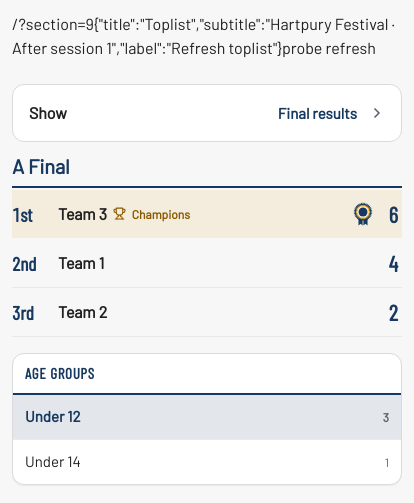
Test: the age group rail on a laptop › lists every age group down the left instead of the menu, and switches on a click
The image size is (414, 503).
Step 1. Click the button "Under 14 1" → (53, 461), box x1=13 y1=440 x2=401 y2=484
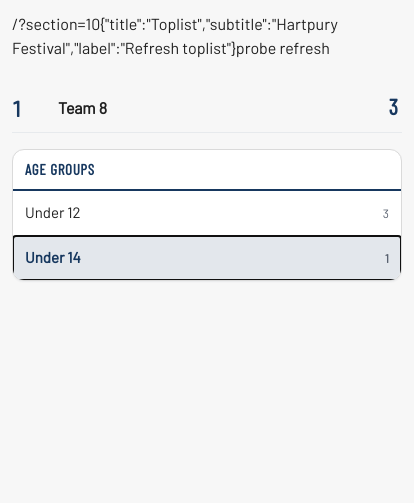
Expected: the text with test id "search" reads "?section=10", x1=18 y1=14 x2=100 y2=33
